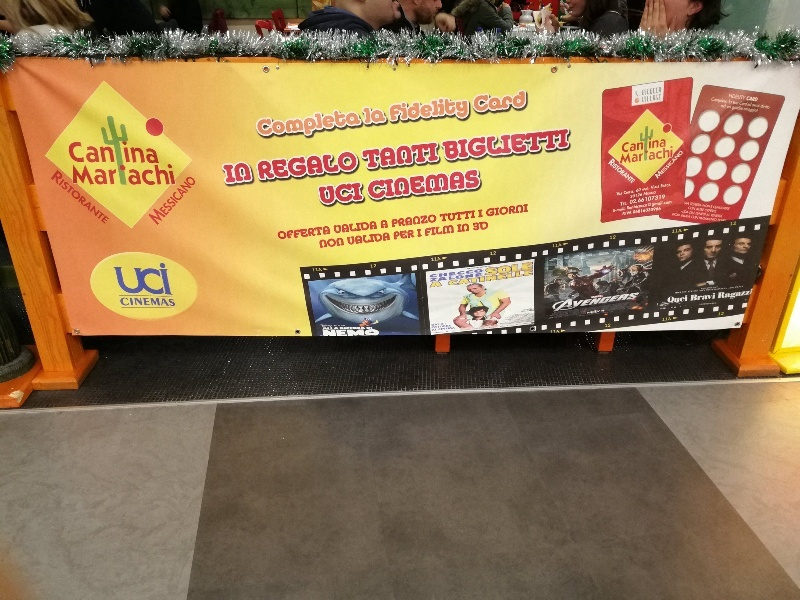text: (65, 170, 80, 225), (81, 170, 96, 225), (161, 173, 176, 226), (177, 173, 192, 226), (97, 170, 110, 225), (149, 173, 160, 226), (257, 108, 272, 140), (273, 108, 288, 140), (289, 108, 304, 140), (305, 108, 320, 140), (321, 108, 336, 140), (337, 108, 352, 140), (129, 264, 144, 296), (145, 264, 160, 296), (369, 170, 384, 200), (385, 170, 400, 200), (401, 170, 416, 200), (417, 170, 432, 200), (433, 170, 448, 200), (449, 170, 464, 200), (465, 170, 480, 200), (449, 130, 464, 160), (465, 130, 480, 160), (481, 130, 496, 160), (497, 130, 512, 160), (513, 130, 528, 160), (529, 130, 544, 160), (545, 130, 560, 160), (273, 151, 288, 181), (289, 151, 304, 181), (305, 151, 320, 181), (321, 151, 336, 181), (337, 151, 352, 181), (657, 150, 672, 180), (114, 264, 128, 296), (258, 151, 272, 181), (401, 96, 416, 123), (417, 96, 432, 123), (433, 96, 448, 123), (449, 96, 464, 123), (369, 143, 384, 169), (385, 143, 400, 169), (401, 143, 416, 169), (417, 143, 432, 169), (57, 170, 64, 225), (161, 264, 172, 296), (321, 183, 336, 206), (337, 183, 352, 206), (481, 91, 496, 113), (497, 91, 512, 113), (81, 141, 96, 163), (97, 141, 112, 163), (113, 141, 128, 163), (129, 141, 144, 163), (225, 163, 240, 184), (145, 141, 159, 163), (673, 150, 683, 180), (353, 108, 362, 140), (657, 146, 673, 164), (513, 91, 526, 113), (81, 165, 96, 184), (97, 165, 112, 184), (113, 165, 128, 184), (129, 165, 144, 184), (145, 165, 160, 184), (577, 293, 592, 312), (593, 293, 608, 312), (609, 293, 624, 312), (625, 293, 640, 312), (613, 159, 624, 184), (625, 159, 636, 184), (390, 96, 400, 123), (625, 146, 640, 164), (641, 146, 656, 164), (161, 165, 175, 184), (625, 136, 640, 153), (641, 136, 656, 153), (69, 141, 80, 163), (369, 108, 384, 124), (625, 197, 640, 213), (641, 197, 656, 213), (657, 197, 672, 213), (449, 270, 464, 286), (465, 270, 480, 286), (481, 270, 496, 286), (497, 270, 512, 286), (513, 270, 528, 286), (241, 163, 252, 184), (353, 183, 363, 206), (401, 213, 416, 228), (417, 213, 432, 228), (497, 262, 512, 277), (513, 262, 528, 277), (193, 173, 197, 226), (561, 130, 568, 160), (337, 221, 352, 235), (353, 221, 368, 235), (353, 232, 368, 246), (369, 232, 384, 246), (289, 226, 304, 240), (305, 226, 320, 240), (737, 288, 753, 301), (721, 288, 736, 301), (442, 130, 448, 160), (497, 205, 512, 217), (513, 205, 528, 217), (433, 225, 448, 237), (513, 313, 528, 325), (613, 197, 624, 213), (321, 237, 336, 248), (449, 211, 464, 222), (473, 91, 480, 113), (657, 136, 666, 153), (568, 293, 576, 312), (353, 151, 358, 181), (641, 195, 656, 205), (486, 262, 496, 277), (401, 230, 415, 240), (278, 226, 288, 240), (321, 226, 331, 240), (129, 298, 144, 307), (145, 298, 160, 307), (161, 298, 176, 307), (501, 313, 512, 325), (363, 143, 368, 169), (433, 143, 438, 169), (465, 211, 476, 222), (392, 213, 400, 228), (417, 229, 432, 237), (486, 205, 496, 217), (689, 286, 704, 294), (705, 286, 720, 294), (721, 286, 736, 294), (433, 270, 448, 278), (449, 270, 464, 278), (465, 270, 480, 278), (433, 274, 448, 282), (449, 274, 464, 282), (465, 274, 480, 282), (337, 329, 352, 337), (353, 329, 368, 337), (74, 165, 80, 184), (369, 221, 377, 235), (673, 296, 688, 303), (641, 207, 656, 214), (753, 102, 768, 109), (643, 88, 656, 96), (323, 329, 336, 337), (630, 195, 640, 205), (690, 294, 704, 301), (676, 286, 688, 294), (643, 96, 656, 103), (657, 195, 666, 205), (433, 282, 448, 288), (337, 237, 345, 248), (440, 211, 448, 222), (369, 329, 380, 337), (465, 96, 468, 123), (481, 221, 489, 231), (705, 294, 716, 301), (673, 229, 688, 234), (705, 217, 720, 222), (721, 104, 736, 109), (426, 225, 432, 237), (120, 298, 128, 307), (529, 313, 535, 325), (385, 232, 390, 246), (473, 221, 480, 231), (691, 202, 704, 207), (364, 108, 368, 124), (712, 97, 720, 105), (457, 223, 464, 232), (394, 230, 400, 240), (433, 213, 437, 228), (449, 225, 454, 237), (625, 189, 635, 195), (673, 213, 688, 217), (689, 206, 704, 210), (740, 101, 752, 106), (433, 325, 448, 329), (529, 262, 533, 277), (348, 232, 352, 246), (610, 235, 624, 239), (706, 209, 720, 213), (721, 97, 728, 105), (744, 108, 752, 115), (645, 191, 656, 196), (631, 193, 640, 199), (737, 94, 746, 100), (371, 264, 384, 268), (643, 187, 656, 191), (633, 207, 640, 214), (737, 286, 743, 294), (529, 270, 532, 286), (468, 266, 480, 270), (481, 327, 497, 330), (593, 310, 601, 316), (465, 223, 470, 232), (721, 206, 730, 211), (661, 184, 672, 188), (753, 108, 759, 115), (705, 287, 719, 290), (433, 257, 441, 262), (593, 295, 603, 299), (691, 211, 704, 214), (353, 327, 366, 330), (622, 146, 624, 164), (692, 216, 704, 219), (708, 214, 720, 217), (711, 214, 720, 218), (753, 96, 759, 102), (730, 94, 736, 100), (663, 317, 672, 321), (439, 327, 448, 331), (340, 327, 352, 330), (625, 211, 632, 216), (657, 207, 662, 214), (681, 214, 688, 219), (721, 217, 728, 222), (657, 94, 662, 101), (705, 303, 716, 306), (312, 268, 320, 272), (657, 88, 661, 96), (696, 212, 704, 216), (655, 150, 656, 180), (714, 206, 720, 211), (682, 209, 688, 214), (730, 99, 736, 104), (737, 106, 743, 111), (433, 329, 448, 331), (587, 310, 592, 316), (334, 221, 336, 235), (553, 244, 560, 248), (668, 296, 672, 303), (617, 192, 624, 196), (481, 266, 488, 270), (521, 308, 528, 312), (381, 220, 384, 229), (385, 220, 388, 229), (727, 106, 736, 109), (551, 330, 560, 333), (718, 288, 720, 301), (491, 251, 496, 256), (712, 205, 720, 208), (698, 208, 704, 212), (748, 96, 752, 102), (449, 327, 455, 331), (472, 327, 480, 330), (324, 328, 336, 330), (321, 325, 333, 327), (319, 183, 320, 206), (653, 94, 656, 101), (749, 102, 752, 109), (433, 323, 440, 326), (731, 222, 736, 226), (620, 201, 624, 206), (651, 185, 656, 189), (700, 217, 704, 222), (705, 204, 710, 208), (732, 106, 736, 111), (529, 308, 534, 312), (442, 323, 448, 326), (337, 325, 346, 327), (623, 136, 624, 153), (385, 108, 386, 124), (478, 210, 480, 218), (481, 210, 483, 218), (430, 270, 432, 278), (481, 270, 483, 278), (625, 201, 628, 206), (685, 201, 688, 206), (699, 303, 704, 306), (605, 323, 608, 328), (721, 312, 724, 316), (369, 327, 373, 330), (319, 237, 320, 248), (689, 214, 691, 219), (609, 323, 611, 328), (603, 310, 608, 312), (638, 188, 640, 192), (657, 185, 659, 189), (721, 214, 723, 218), (734, 101, 736, 105), (737, 101, 739, 105), (449, 325, 451, 329), (431, 274, 432, 282), (481, 274, 482, 282), (769, 102, 770, 109), (641, 193, 642, 199), (702, 287, 704, 290), (431, 257, 432, 262), (623, 211, 624, 216), (561, 244, 562, 248), (321, 268, 322, 272), (703, 204, 704, 208), (705, 212, 706, 216), (719, 312, 720, 316), (337, 328, 339, 330), (591, 295, 592, 299), (367, 327, 368, 330), (335, 325, 336, 327)
